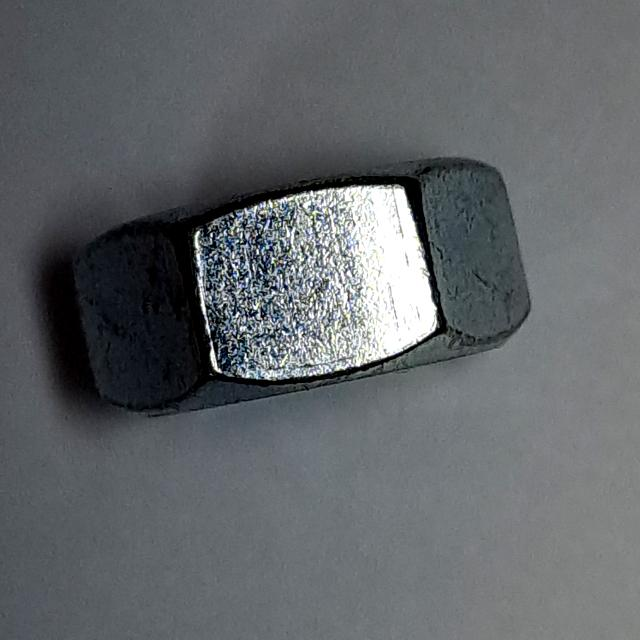Side_Excellent: (62, 128, 543, 438)
